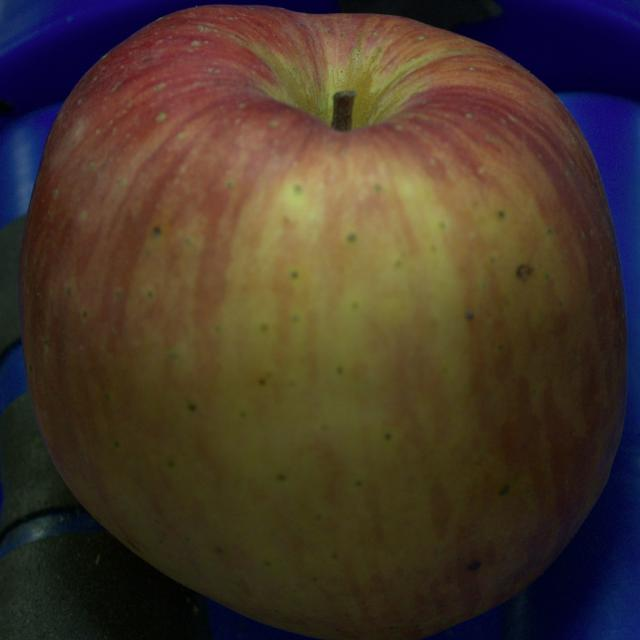apple: (20, 5, 626, 639)
pest: (516, 264, 532, 279)
